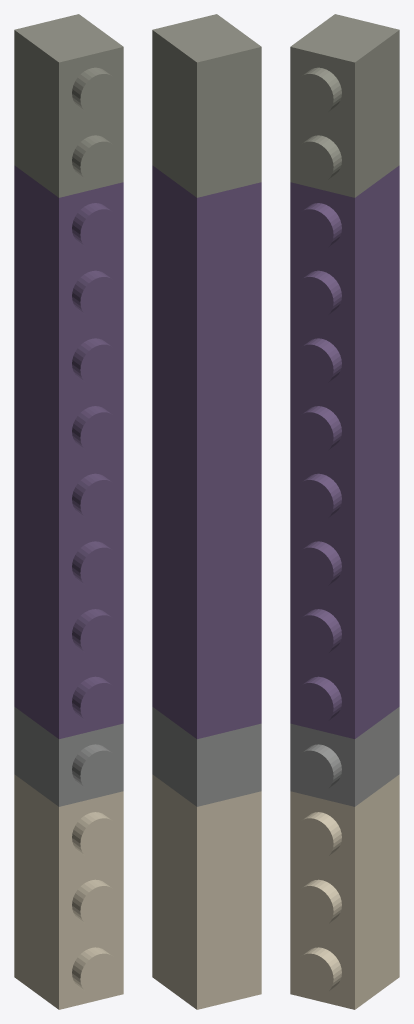
Rendered from current.glb.
The picture shows the model from 3 angles, left to right: view 1: azimuth 30°, elevation 25°; view 2: azimuth 210°, elevation 25°; view 3: azimuth 330°, elevation 25°; orthographic projection.
Visible parts, largest first — view 1: world; view 2: world; view 3: world.
Part boxes in pixels (<box>): world: <box>14,14,123,1009</box>; world: <box>152,14,261,1009</box>; world: <box>290,14,399,1009</box>.
Bounding box in the file's own units: 8 × 112 × 11.4.
